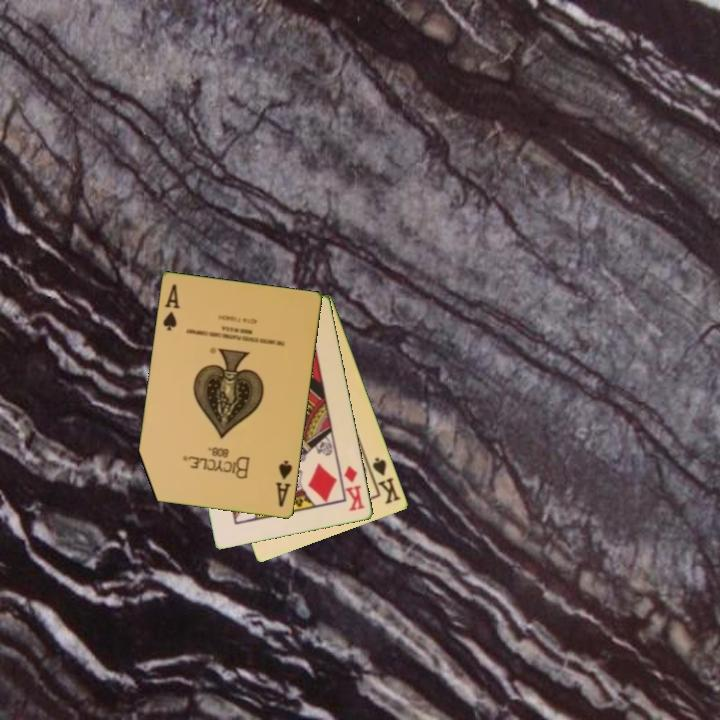As: (272, 457, 295, 510), (160, 281, 183, 334)
Kd: (341, 462, 368, 514)
Ks: (364, 454, 404, 507)
